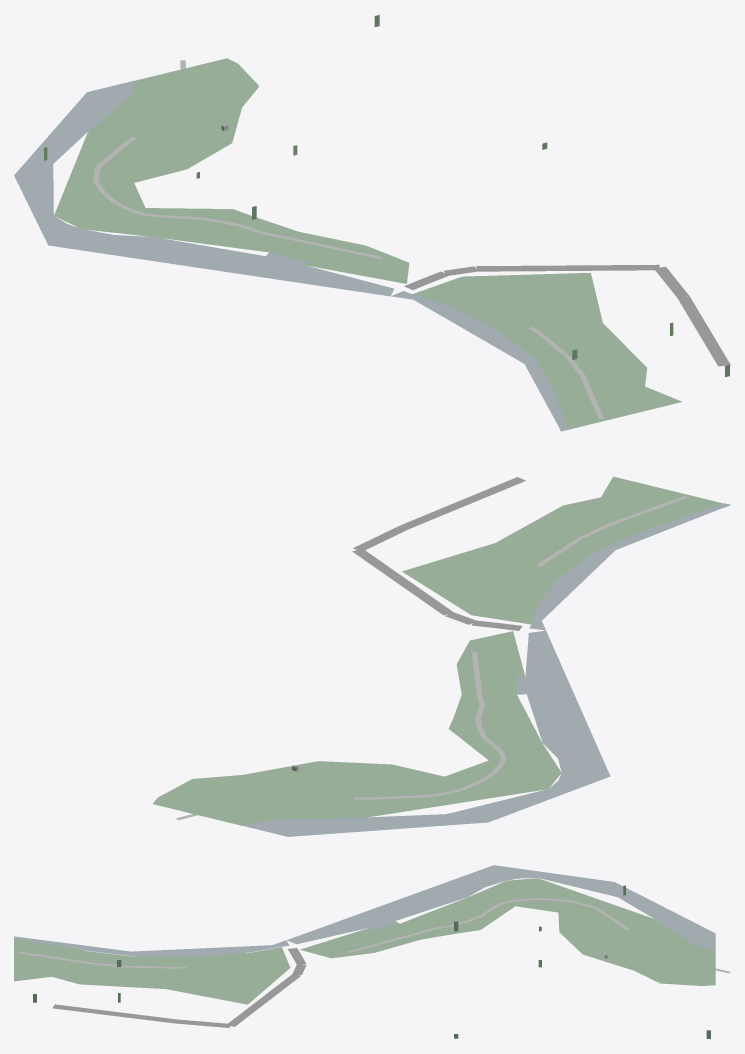
3 renders of one model, top to bottom at view 1: azimuth 30°, elevation 25°; view 2: azimuth 150°, elevation 25°; view 3: azimuth 270°, elevation 25°, orthographic. The views are drawn at different scales.
Size of the model in its own units: 294 by 8.74 by 511.
